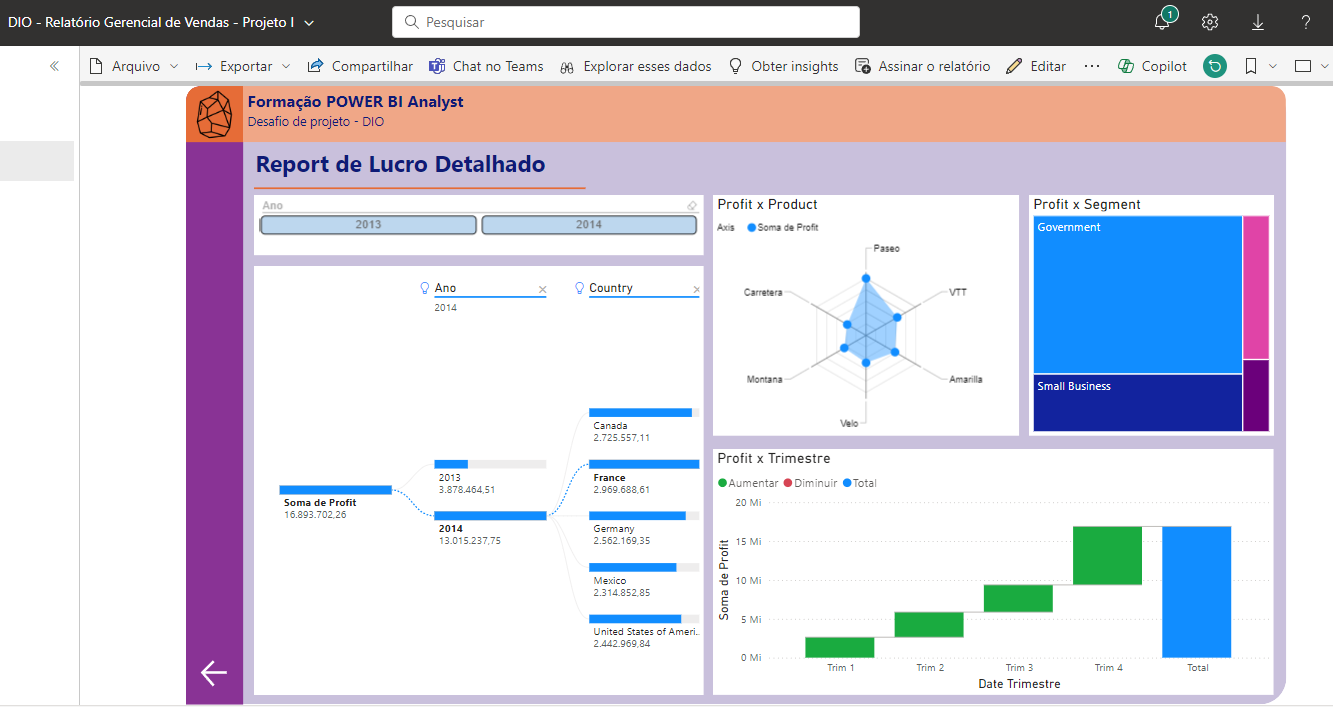

Layout of this report page (visuals, bound fields, positions):
{"tool":"powerbi","page":{"name":"Página 2","canvas":[1280,720],"ordinal":1},"visuals":[{"type":"shape","box":[0,0,1280,719.4],"z":0},{"type":"shape","box":[79.2,97.7,385.6,42.5],"z":0,"group":"g1"},{"type":"shape","box":[0,0,66.8,719.7],"z":1000},{"type":"textbox","box":[75.8,65.8,386.7,52.5],"z":1000,"group":"g1"},{"type":"shape","box":[0,0,66.8,65.5],"z":2000},{"type":"image","box":[0,0,66.8,65.5],"z":3000},{"type":"shape","box":[66.8,0,1213.2,65.5],"z":4000},{"type":"textbox","box":[66.8,0,304.6,65.5],"z":5000},{"type":"RadarChart1446119667547","title":"Profit x Product","fields":{"Y":["Sum(financials.Profit)"],"Category":["financials.Product"]},"box":[613.5,127.3,356.1,280.3],"z":6000},{"type":"waterfallChart","title":"Profit x Trimestre","fields":{"Y":["Sum(financials.Profit)"],"Category":["financials.Date.Variation.Hierarquia de datas.Trimestre"]},"box":[613.5,421.9,652.2,286],"z":7000},{"type":"decompositionTreeVisual","title":"Sales x Segment","fields":{"Analyze":["Sum(financials.Profit)"],"ExplainBy":["financials.Date.Variation.Hierarquia de datas.Ano","financials.Country"]},"box":[78.7,208.8,523.4,499.1],"z":8000},{"type":"group","id":"g1","title":"Report title","box":[75.8,65.8,389,74.4],"z":9000},{"type":"actionButton","title":"Voltar","box":[0,662.8,66.4,40.4],"z":10000},{"type":"treemap","title":"Profit x Segment","fields":{"Values":["Sum(financials.Profit)"],"Group":["financials.Segment"]},"box":[981.1,127.3,284.6,280.3],"z":11000},{"type":"ChicletSlicer1448559807354","fields":{"Category":["financials.Date.Variation.Hierarquia de datas.Ano"]},"box":[78.7,127.3,523.4,70.1],"z":12000}]}

Visuals, with their boxes on the page's 1280x720 design canvas (x1, y1, x2, y2). These are canvas units, not pixel positions in the 1333x707 screenshot, which may show the page scaled, cropped or inside an application window:
shape: select_region(0, 0, 1280, 719)
shape: select_region(79, 98, 465, 140)
shape: select_region(0, 0, 67, 720)
textbox: select_region(76, 66, 462, 118)
shape: select_region(0, 0, 67, 66)
image: select_region(0, 0, 67, 66)
shape: select_region(67, 0, 1280, 66)
textbox: select_region(67, 0, 371, 66)
"Profit x Product" RadarChart1446119667547: select_region(614, 127, 970, 408)
"Profit x Trimestre" waterfallChart: select_region(614, 422, 1266, 708)
"Sales x Segment" decompositionTreeVisual: select_region(79, 209, 602, 708)
"Report title" group: select_region(76, 66, 465, 140)
"Voltar" actionButton: select_region(0, 663, 66, 703)
"Profit x Segment" treemap: select_region(981, 127, 1266, 408)
ChicletSlicer1448559807354 - financials.Date.Variation.Hierarquia de datas.Ano: select_region(79, 127, 602, 197)
